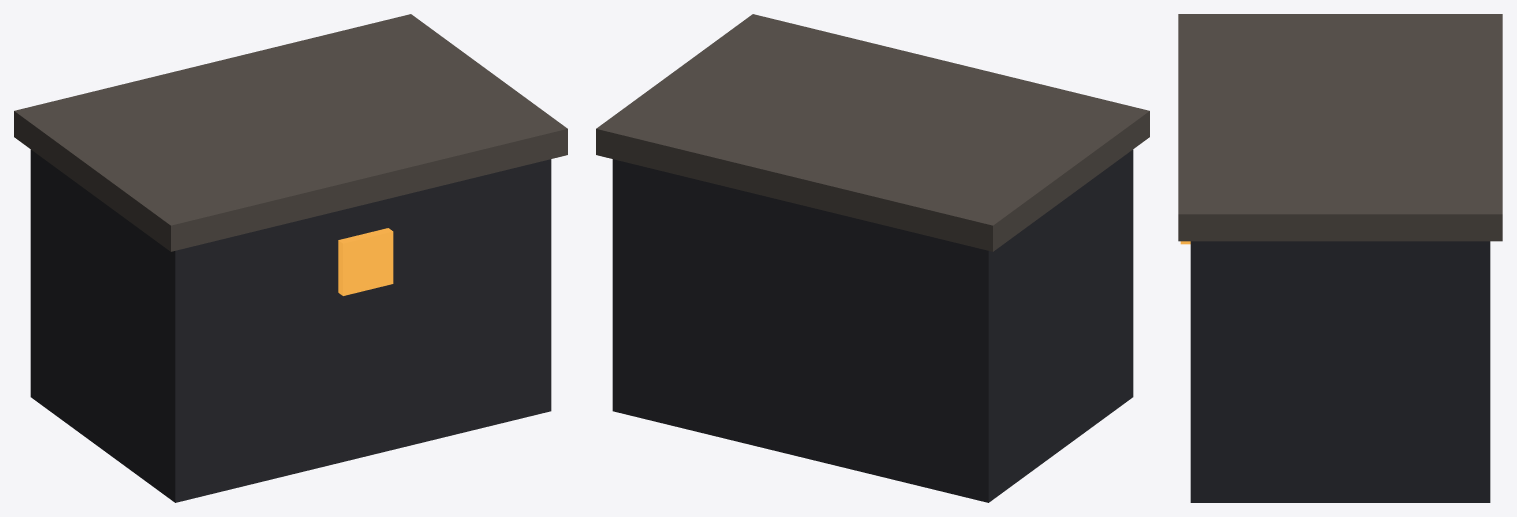
Rendered from chest.glb.
3 views of the same model, side by side, from view 1: azimuth 30°, elevation 25°; view 2: azimuth 150°, elevation 25°; view 3: azimuth 270°, elevation 25° (orthographic). The views are drawn at different scales.
Visible parts, largest first — view 1: chest; view 2: chest; view 3: chest.
Boxes of the visible parts, box(x1,y1,x2,y2) form: chest: box(14, 14, 567, 502); chest: box(596, 14, 1149, 502); chest: box(1178, 14, 1502, 502).
Bounding box in the file's own units: 0.95 × 0.65 × 0.65.
